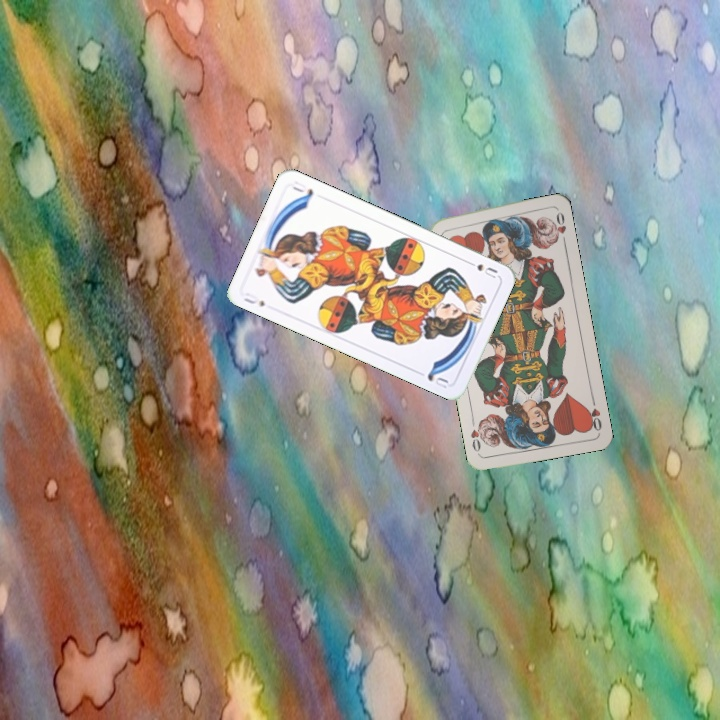HO: (583, 394, 604, 433)
SU: (462, 257, 500, 281), (239, 288, 267, 309)
